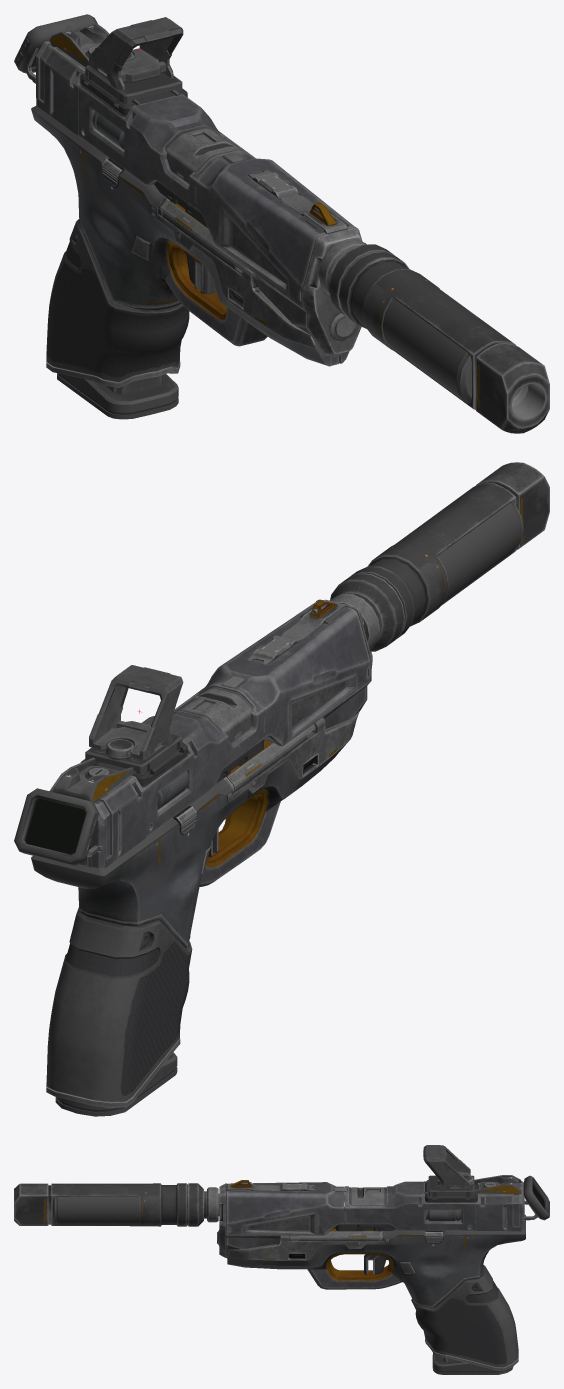
File: pistol.glb
3 renders of one model, top to bottom at view 1: azimuth 30°, elevation 25°; view 2: azimuth 150°, elevation 25°; view 3: azimuth 270°, elevation 25°, orthographic. The views are drawn at different scales.
Visible parts, largest first — view 1: Cube047, Cylinder017, Plane036, Cube060; view 2: Cube047, Cylinder017, Plane036, Cube060; view 3: Cube047, Cylinder017, Plane036, Cube060.
Part boxes in pixels (bbox=[...]): Cube047: bbox=[31, 23, 362, 419]; Cylinder017: bbox=[318, 239, 549, 433]; Plane036: bbox=[85, 17, 183, 104]; Cube060: bbox=[14, 14, 97, 83]; Cube047: bbox=[31, 599, 372, 1116]; Cylinder017: bbox=[330, 462, 549, 651]; Plane036: bbox=[85, 665, 183, 774]; Cube060: bbox=[14, 788, 101, 865]; Cube047: bbox=[217, 1175, 525, 1374]; Cylinder017: bbox=[14, 1183, 218, 1226]; Plane036: bbox=[423, 1145, 474, 1197]; Cube060: bbox=[523, 1175, 549, 1220].
Bounding box in the file's own units: 0.4662 × 2.06 × 4.69.
Materials: 2 (1 with a texture image).
